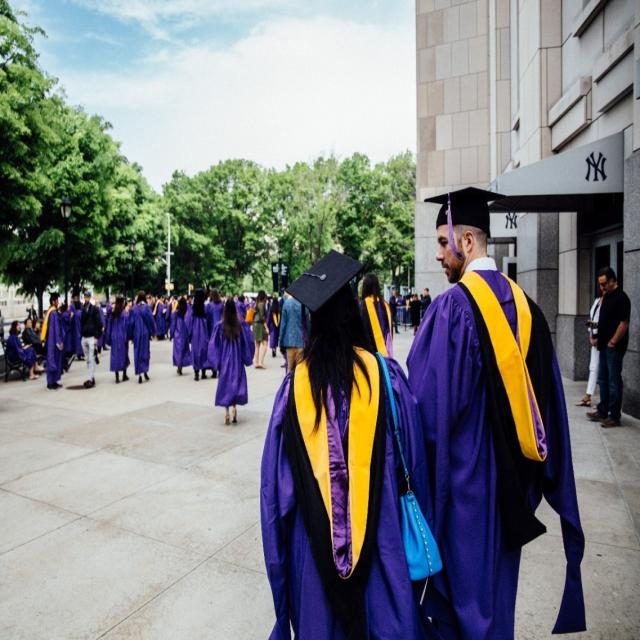body: (398, 180, 592, 640), (253, 242, 447, 639), (583, 263, 633, 430), (205, 298, 253, 428), (573, 280, 608, 410), (21, 316, 76, 374), (358, 270, 394, 358), (126, 289, 158, 383), (182, 287, 213, 382), (3, 318, 48, 381), (39, 290, 67, 391), (278, 296, 311, 375), (105, 294, 131, 384), (80, 290, 103, 390), (168, 295, 191, 377), (250, 287, 270, 371), (206, 288, 226, 336), (267, 296, 282, 358), (217, 292, 257, 312), (153, 292, 168, 340), (165, 293, 179, 342), (94, 299, 106, 355), (73, 301, 84, 361), (409, 292, 423, 337), (388, 289, 401, 334), (420, 287, 432, 318), (266, 290, 286, 306), (0, 308, 6, 355), (100, 295, 114, 315), (398, 292, 423, 302), (26, 302, 36, 326), (59, 304, 72, 322), (178, 292, 195, 304), (124, 297, 136, 311), (403, 302, 410, 324), (161, 292, 173, 304), (145, 291, 154, 305), (58, 300, 66, 314), (102, 343, 109, 353)
